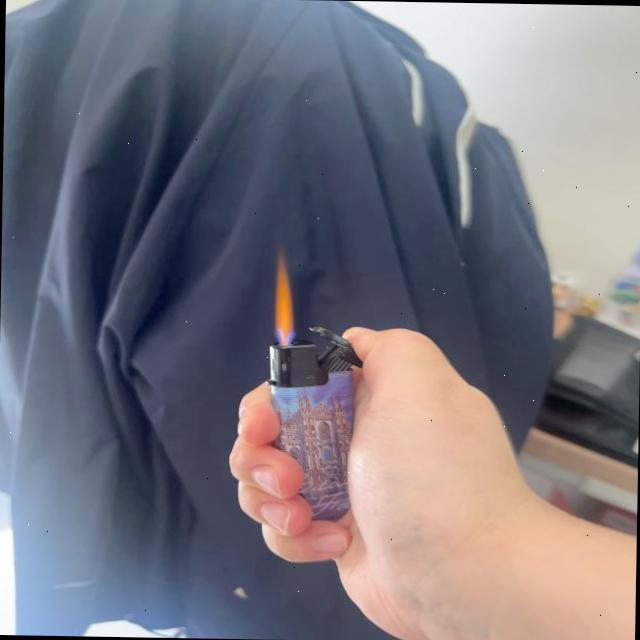fire: (270, 247, 298, 345)
